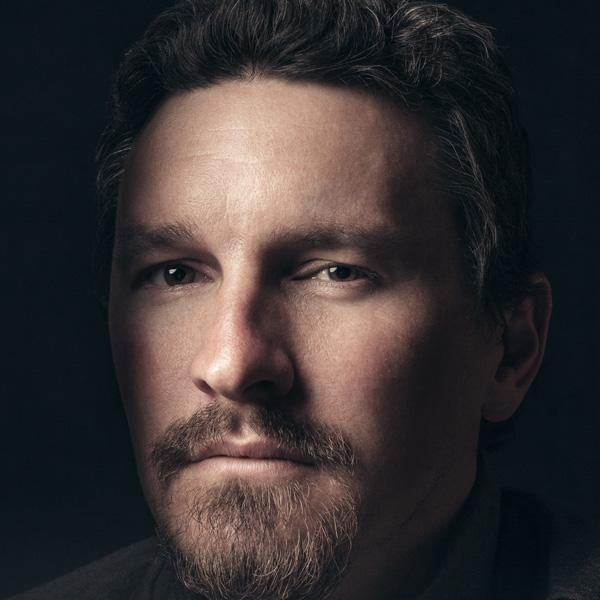Eyes: (118, 246, 232, 308), (274, 247, 393, 304)
